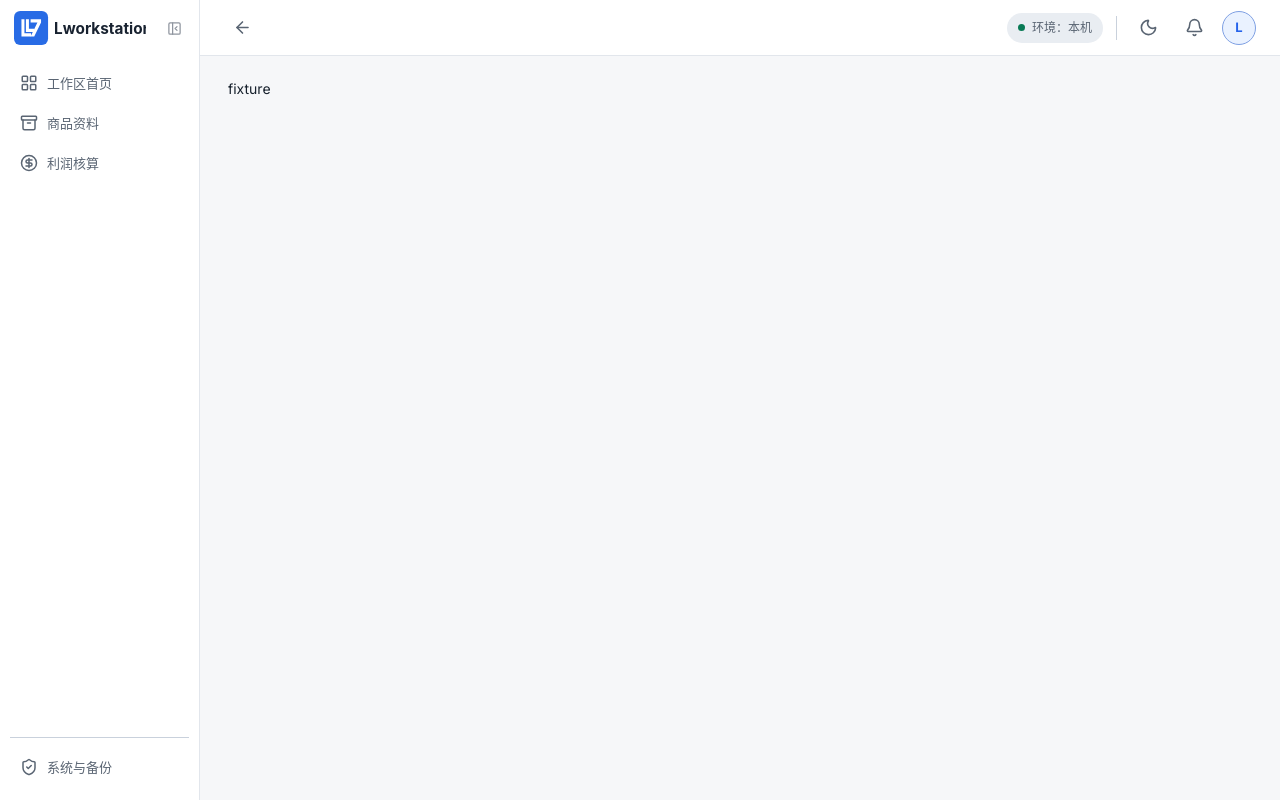
it: edits desktop close behavior from preferences and keeps cloud setup folded
Step 1. Click the button "L" → {"x": 1239, "y": 28}, box top-left (1222, 10), bottom-right (1256, 44)
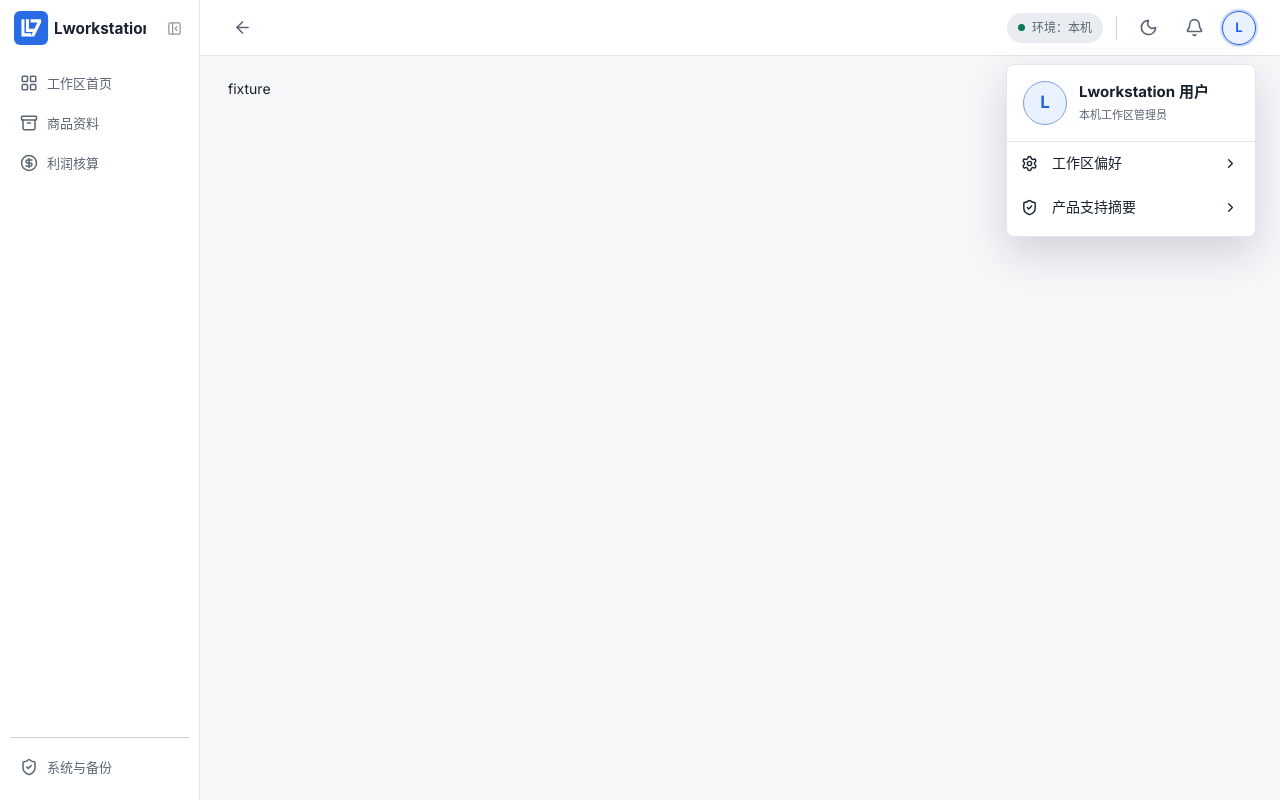
Expected: the button "工作区偏好" is shown
Step 2. Click the button "工作区偏好" → {"x": 1131, "y": 164}, box top-left (1007, 142), bottom-right (1255, 186)
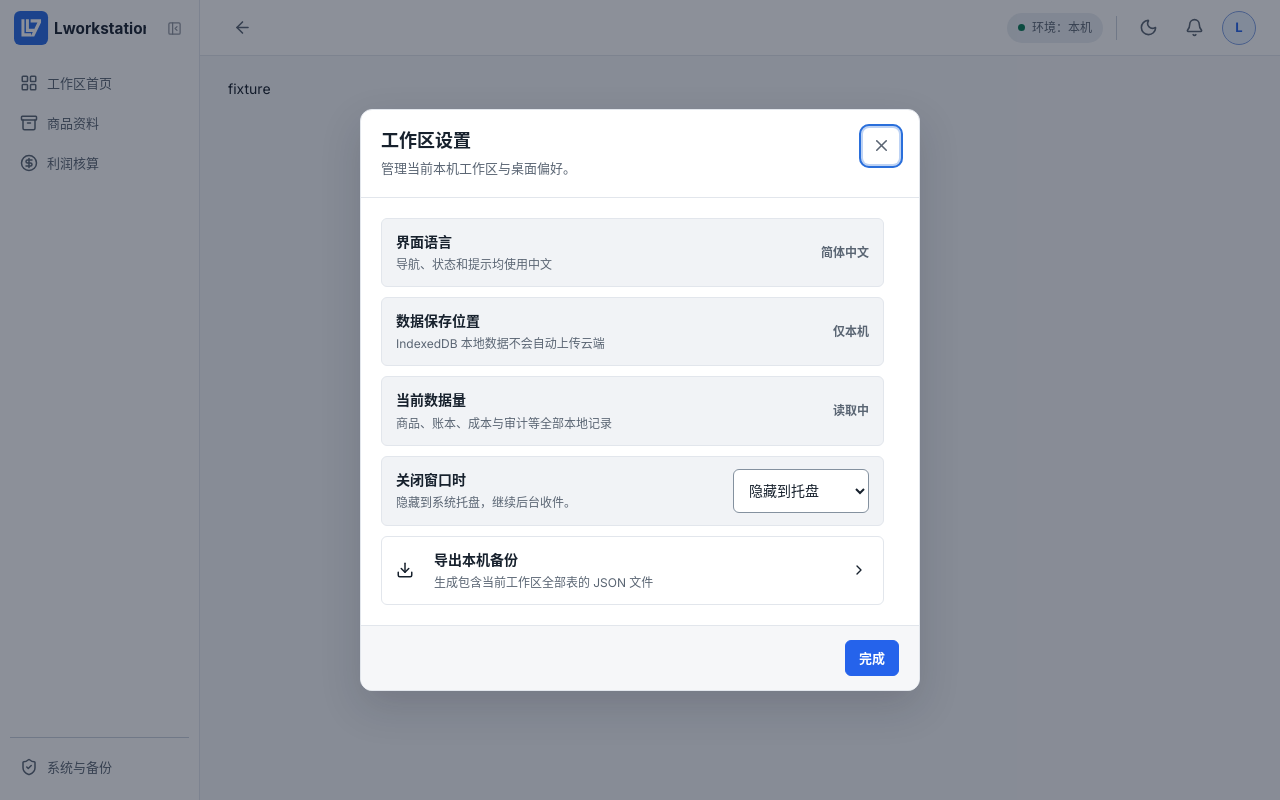
Expected: the dropdown with id "desktop-close-behavior" shows "隐藏到托盘"
Step 3. Select "退出应用" in the dropdown with id "desktop-close-behavior" → {"x": 801, "y": 491}, box top-left (733, 469), bottom-right (869, 513)
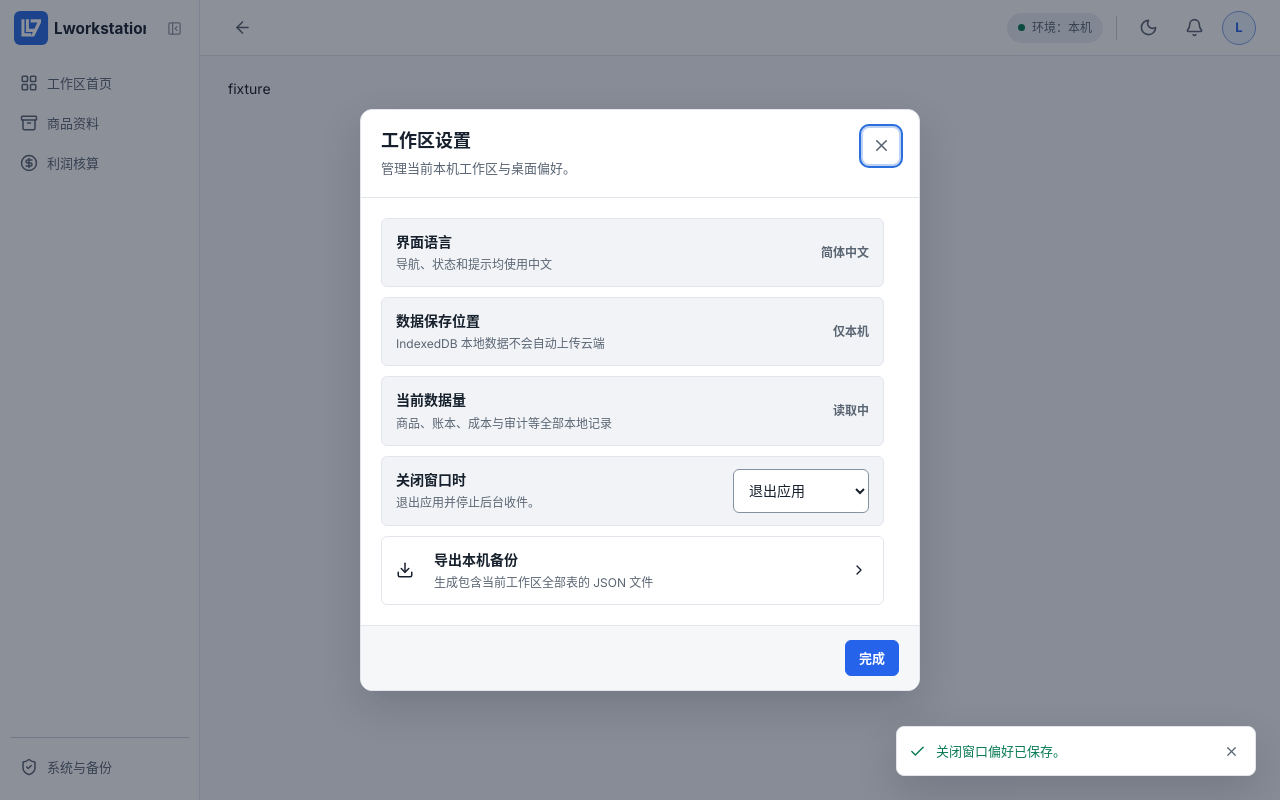
Expected: the dialog shows "退出应用并停止后台收件", top-left (396, 496), bottom-right (540, 510)
